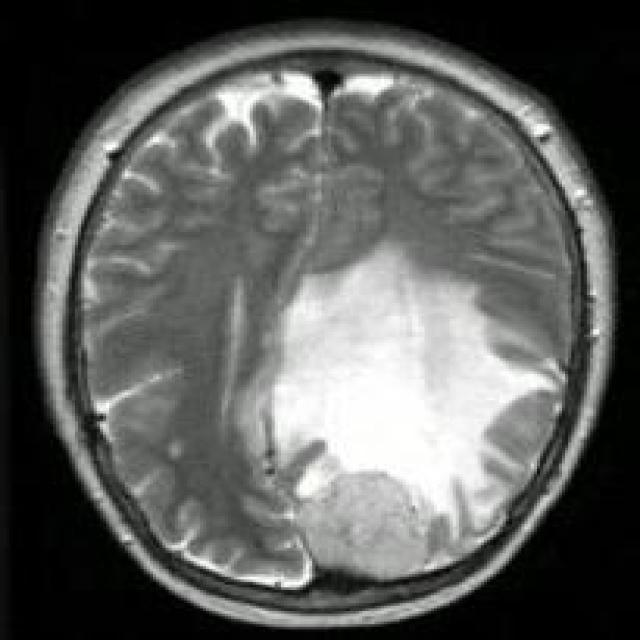brain tumor: (275, 248, 565, 579)
